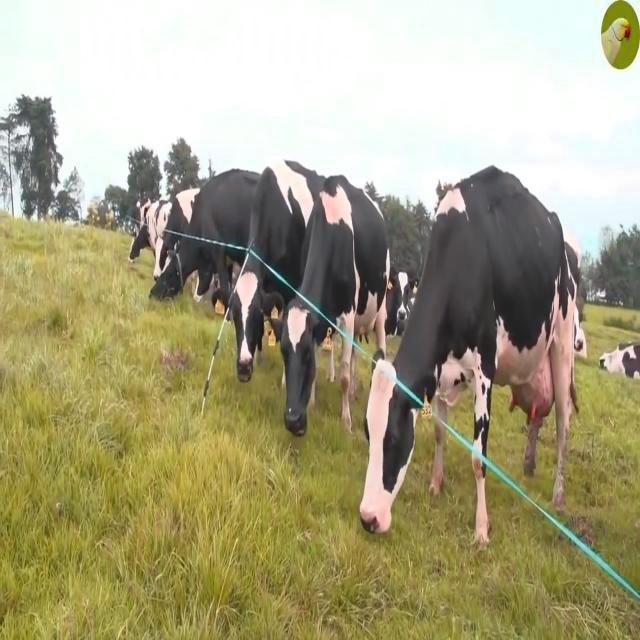cow: (360, 166, 575, 532), (282, 175, 389, 435), (249, 161, 324, 287), (231, 254, 294, 381), (150, 238, 245, 307), (186, 169, 260, 246), (341, 339, 354, 429)
